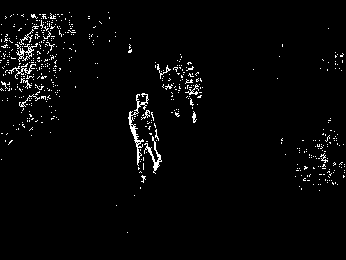person: (128, 88, 161, 186)
